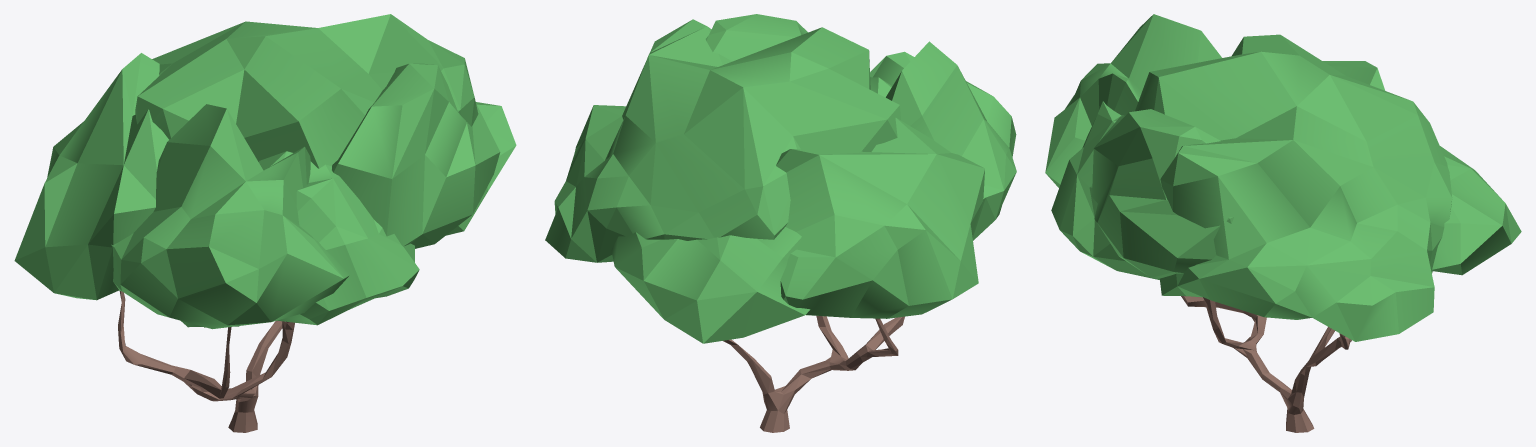
File: tree_006.glb
3 renders of one model, left to right at view 1: azimuth 30°, elevation 25°; view 2: azimuth 150°, elevation 25°; view 3: azimuth 270°, elevation 25°, orthographic. The views are drawn at different scales.
Visible parts, largest first — view 1: tree_006; view 2: tree_006; view 3: tree_006.
Part boxes in pixels (x1,y1,x2,y2): tree_006: (14, 14, 516, 432); tree_006: (545, 14, 1016, 432); tree_006: (1045, 14, 1521, 432).
Size of the model in its own units: 6.68 by 5.75 by 6.59.
1 material, 1 textured.
